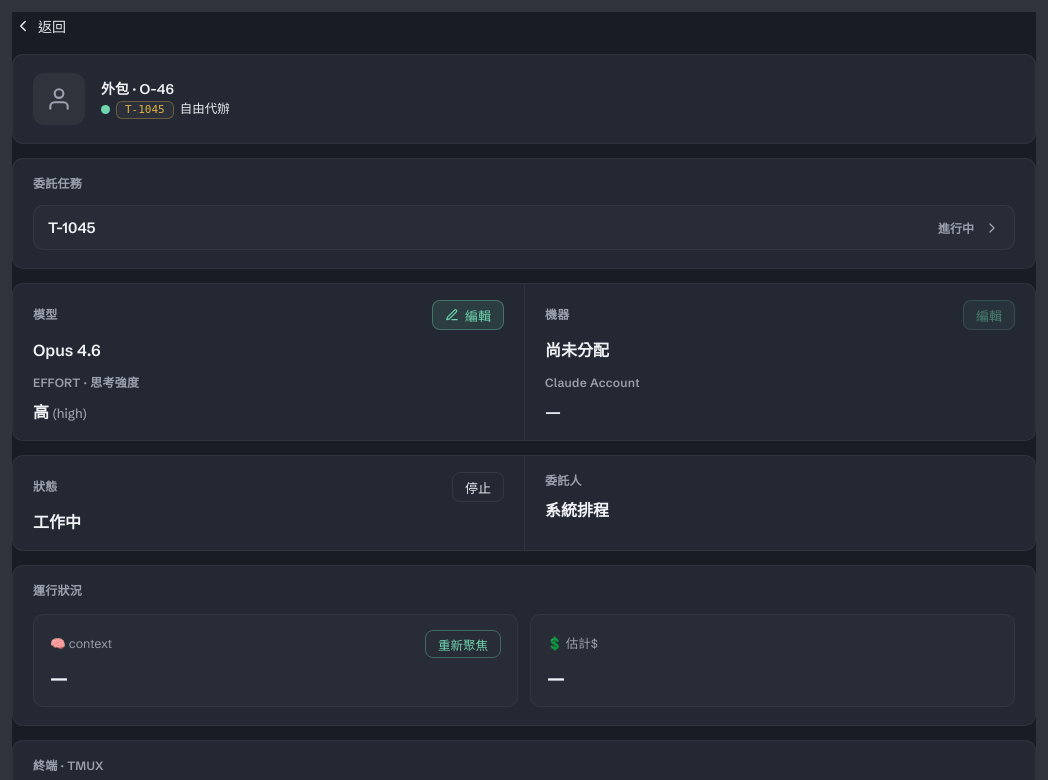
WorkerDetailPanel — lifecycle ops (T-32e1/T-f190) › 換 model: edit → save persists the new model via the adapter
Click the button with test id "worker-detail-model-effort-edit".
click(468, 315)  # box [432, 300, 504, 330]
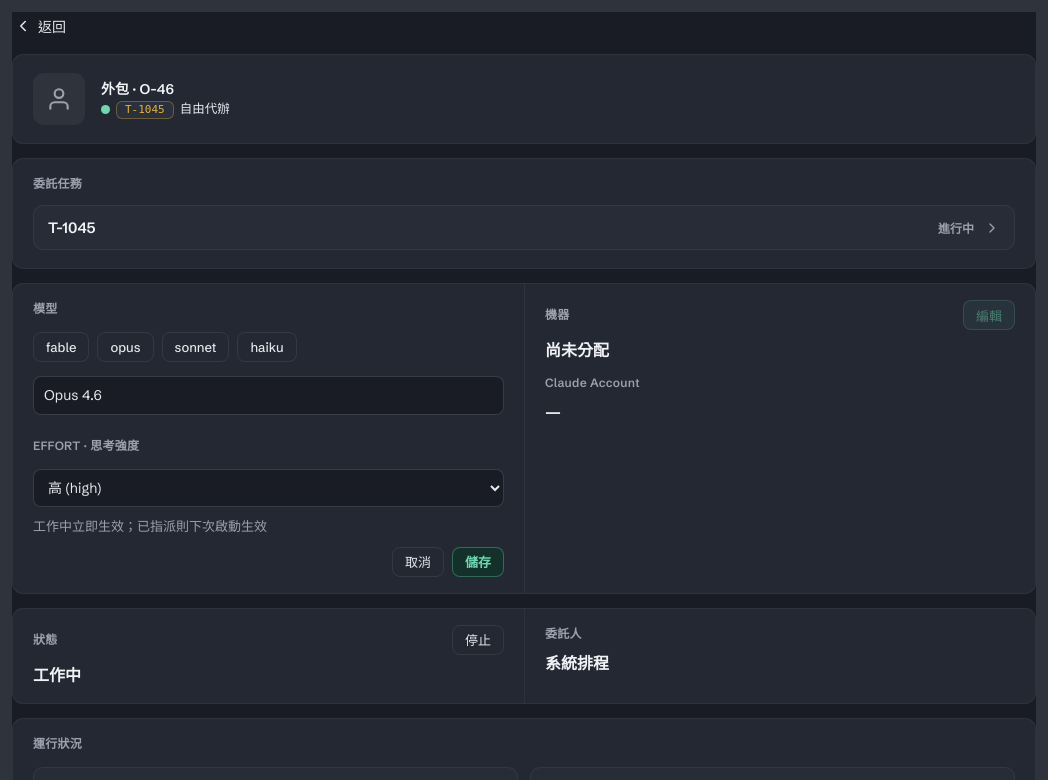
Note: The shared ModelEffortEditor's free custom-model input (data-testid pinned).
Replace the text in the field with test id "me-model-input" with "claude-opus-4-8" at point(268, 396), box [33, 376, 504, 415]
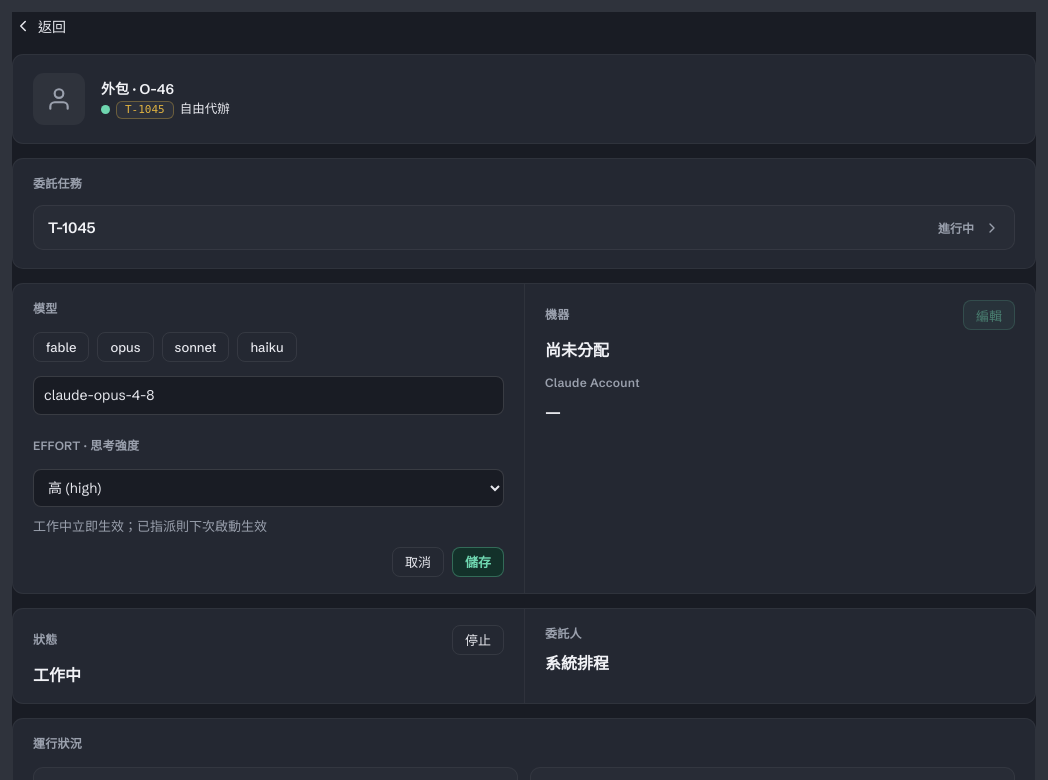
Click the button with test id "worker-detail-model-effort-save".
click(478, 562)  # box [452, 546, 504, 576]
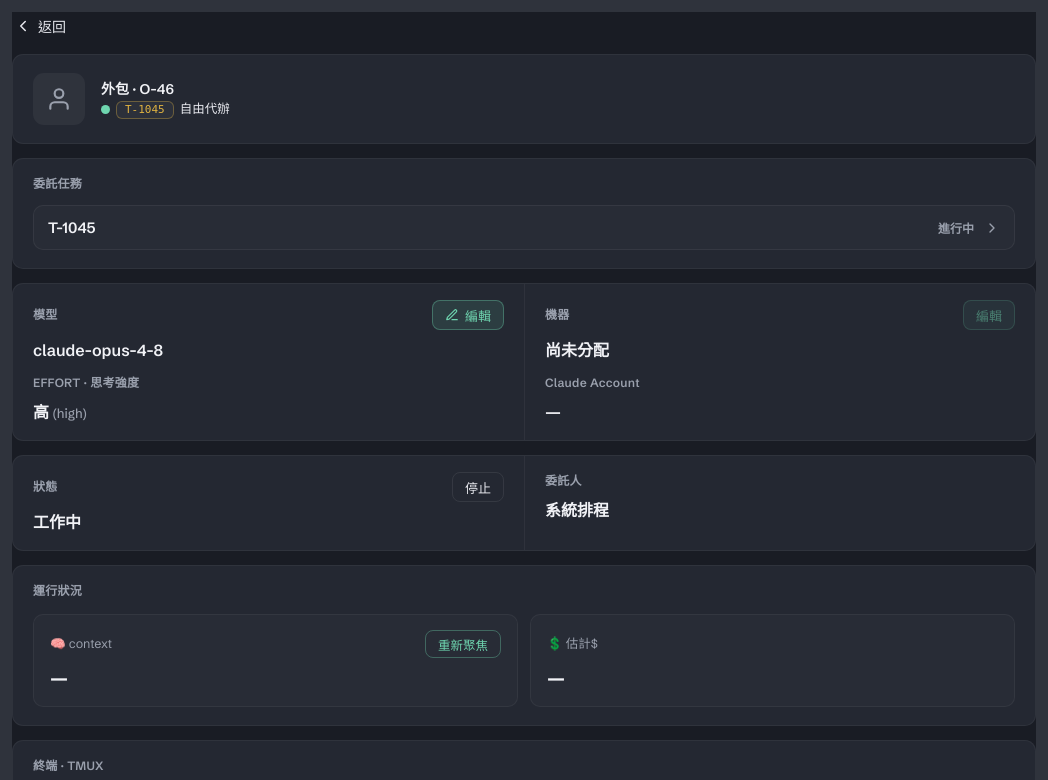
Check: the button with test id "worker-detail-model-effort-edit" is shown, box [432, 300, 504, 330]
Check: the element with test id "worker-detail-model-effort-cell" shows "claude-opus-4-8", box [33, 340, 163, 360]
